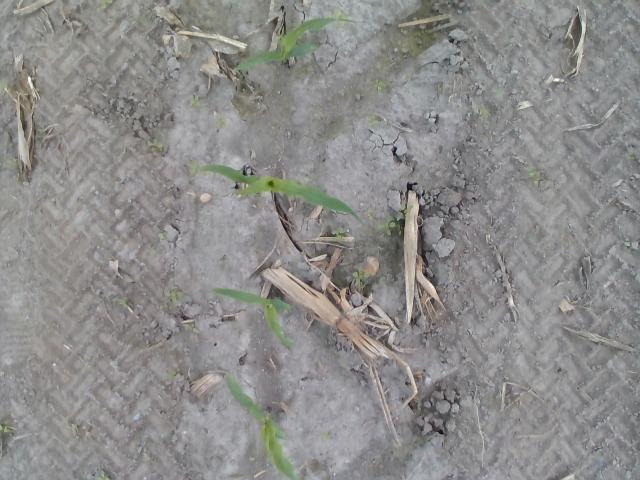Maize: (223, 373, 300, 480), (198, 164, 356, 215), (233, 15, 355, 73), (212, 286, 298, 351)
Weeds: (376, 220, 403, 236), (528, 166, 544, 185), (352, 270, 369, 286), (167, 290, 183, 304), (183, 324, 201, 335), (367, 114, 378, 130), (148, 138, 162, 150), (374, 79, 385, 93), (335, 10, 346, 24), (96, 470, 110, 480), (166, 368, 176, 382), (190, 96, 200, 106), (0, 424, 10, 434), (100, 0, 112, 8), (120, 296, 128, 306), (336, 228, 344, 238), (480, 110, 488, 118)
